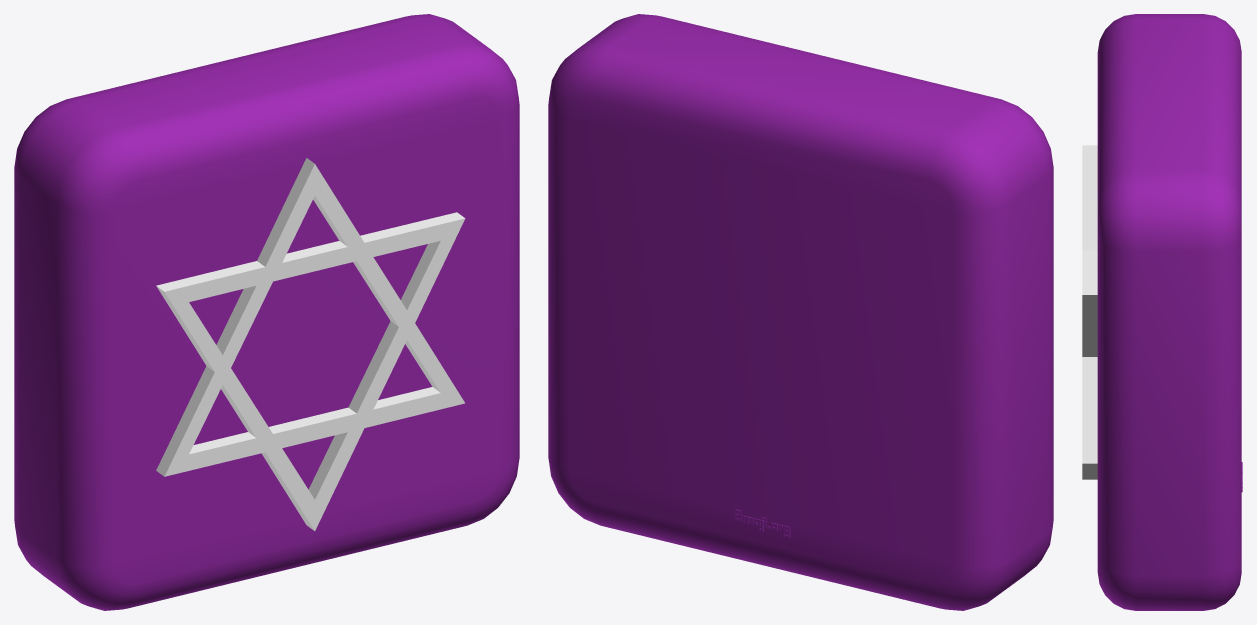
Rendered from star_of_david.fbx.
3 views of the same model, side by side, from view 1: azimuth 30°, elevation 25°; view 2: azimuth 150°, elevation 25°; view 3: azimuth 270°, elevation 25° (orthographic). The views are drawn at different scales.
Visible parts, largest first — view 1: Cube.6387; view 2: Cube.6387; view 3: Cube.6387.
Part boxes in pixels (box(x1,y1,x2,y2)): Cube.6387: box(14, 14, 519, 610); Cube.6387: box(548, 14, 1053, 610); Cube.6387: box(1082, 14, 1242, 610).
Bounding box in the file's own units: 220 × 220 × 73.37.
Materials: 1 (1 with a texture image).
